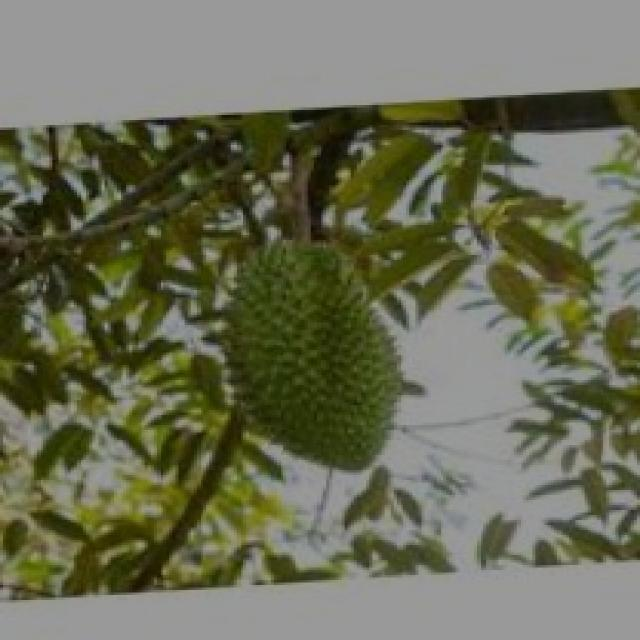fruit: (203, 212, 425, 488)
